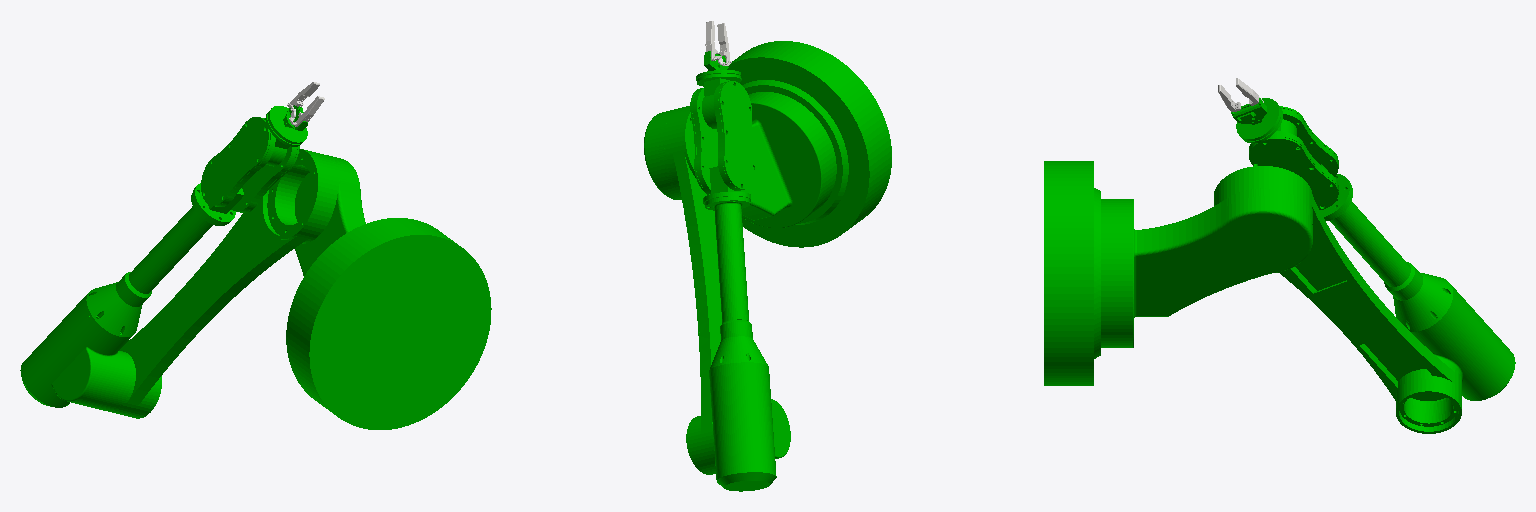
robot.urdf — Assem1:
<?xml version="1.0"?>
<robot name="Assem1">

  <!-- Materials -->
  <material name="Steel">
    <color rgba="0.000 0.753 0.000 1.0"/>
  </material>
  <material name="Generico">
    <color rgba="0.878 0.875 0.859 1.0"/>
  </material>
  <material name="material">
    <color rgba="0.961 0.961 0.965 1.0"/>
  </material>

  <link name="base_link">
    <inertial>
      <origin xyz="0.000000 0.080883 0.000000" rpy="0 0 0"/>
      <mass value="458.518628"/>
      <inertia ixx="1.383314e+01" ixy="3.228896e-17" ixz="2.339482e-14"
               iyy="2.563791e+01" iyz="1.478321e-15" izz="1.383314e+01"/>
    </inertial>
    <visual>
      <origin xyz="0.000000 0.000000 0.000000" rpy="0 0 0"/>
      <geometry>
        <mesh filename="package://Assem1_description/meshes/Assem1/base_link.dae" scale="1 1 1"/>
      </geometry>
      <material name="Steel"/>
    </visual>
    <collision>
      <origin xyz="0.000000 0.000000 0.000000" rpy="0 0 0"/>
      <geometry>
        <mesh filename="package://Assem1_description/meshes/Assem1/base_link_collision.stl" scale="0.01 0.01 0.01"/>
      </geometry>
    </collision>
  </link>

  <link name="Base0">
    <inertial>
      <origin xyz="0.049736 0.190786 -0.001303" rpy="0 0 0"/>
      <mass value="239.695814"/>
      <inertia ixx="9.415739e+00" ixy="-3.081859e+00" ixz="4.692144e-02"
               iyy="5.456557e+00" iyz="9.346255e-02" izz="1.153565e+01"/>
    </inertial>
    <visual>
      <origin xyz="0.000000 0.000000 0.000000" rpy="0 0 0"/>
      <geometry>
        <mesh filename="package://Assem1_description/meshes/Assem1/Base0.dae" scale="1 1 1"/>
      </geometry>
      <material name="Steel"/>
    </visual>
    <collision>
      <origin xyz="0.000000 0.000000 0.000000" rpy="0 0 0"/>
      <geometry>
        <mesh filename="package://Assem1_description/meshes/Assem1/Base0_collision.stl" scale="0.01 0.01 0.01"/>
      </geometry>
    </collision>
  </link>

  <link name="Arm01">
    <inertial>
      <origin xyz="0.053529 0.366854 -0.000002" rpy="0 0 0"/>
      <mass value="68.994369"/>
      <inertia ixx="1.074135e+01" ixy="-1.111681e-01" ixz="-1.230563e-06"
               iyy="4.476331e-01" iyz="3.364830e-05" izz="1.039438e+01"/>
    </inertial>
    <visual>
      <origin xyz="-0.020000 1.000000 -0.000000" rpy="0 0 0"/>
      <geometry>
        <mesh filename="package://Assem1_description/meshes/Assem1/Arm01.dae" scale="1 1 1"/>
      </geometry>
      <material name="Steel"/>
    </visual>
    <collision>
      <origin xyz="-0.020000 1.000000 -0.000000" rpy="0 0 0"/>
      <geometry>
        <mesh filename="package://Assem1_description/meshes/Assem1/Arm01_collision.stl" scale="0.01 0.01 0.01"/>
      </geometry>
    </collision>
  </link>

  <link name="Arm02">
    <inertial>
      <origin xyz="-0.002051 0.071594 0.110143" rpy="0 0 0"/>
      <mass value="122.591597"/>
      <inertia ixx="9.697336e-01" ixy="7.134262e-03" ixz="2.475546e-03"
               iyy="1.599893e+00" iyz="-1.000127e-01" izz="1.865600e+00"/>
    </inertial>
    <visual>
      <origin xyz="-0.177000 0.100000 0.120000" rpy="0 0 0"/>
      <geometry>
        <mesh filename="package://Assem1_description/meshes/Assem1/Arm02.dae" scale="1 1 1"/>
      </geometry>
      <material name="Steel"/>
    </visual>
    <collision>
      <origin xyz="-0.177000 0.100000 0.120000" rpy="0 0 0"/>
      <geometry>
        <mesh filename="package://Assem1_description/meshes/Assem1/Arm02_collision.stl" scale="0.01 0.01 0.01"/>
      </geometry>
    </collision>
  </link>

  <link name="for_arm_group">
    <inertial>
      <origin xyz="0.465627 -0.000033 -0.000000" rpy="0 0 0"/>
      <mass value="76.866253"/>
      <inertia ixx="2.134041e-01" ixy="9.151683e-04" ixz="-1.210196e-05"
               iyy="7.730913e+00" iyz="-1.254132e-06" izz="7.717249e+00"/>
    </inertial>
    <visual>
      <origin xyz="-0.367000 -0.000000 0.000000" rpy="0 0 0"/>
      <geometry>
        <mesh filename="package://Assem1_description/meshes/Assem1/for_arm_group.dae" scale="1 1 1"/>
      </geometry>
      <material name="Steel"/>
    </visual>
    <collision>
      <origin xyz="-0.367000 -0.000000 0.000000" rpy="0 0 0"/>
      <geometry>
        <mesh filename="package://Assem1_description/meshes/Assem1/for_arm_group_collision.stl" scale="0.01 0.01 0.01"/>
      </geometry>
    </collision>
  </link>

  <link name="Part02">
    <inertial>
      <origin xyz="-0.055298 0.000000 -0.000000" rpy="0 0 0"/>
      <mass value="8.277042"/>
      <inertia ixx="1.609093e-02" ixy="-6.388571e-13" ixz="-2.432409e-12"
               iyy="3.044161e-02" iyz="-6.667105e-23" izz="3.383062e-02"/>
    </inertial>
    <visual>
      <origin xyz="-0.117721 -0.000000 0.000000" rpy="0 0 0"/>
      <geometry>
        <mesh filename="package://Assem1_description/meshes/Assem1/Part02.dae" scale="1 1 1"/>
      </geometry>
      <material name="Steel"/>
    </visual>
    <collision>
      <origin xyz="-0.117721 -0.000000 0.000000" rpy="0 0 0"/>
      <geometry>
        <mesh filename="package://Assem1_description/meshes/Assem1/Part02_collision.stl" scale="0.01 0.01 0.01"/>
      </geometry>
    </collision>
  </link>

  <link name="led_base">
    <inertial>
      <origin xyz="0.014027 0.006699 0.016421" rpy="0 0 0"/>
      <mass value="0.303692"/>
      <inertia ixx="8.300206e-05" ixy="-6.874604e-06" ixz="5.194899e-06"
               iyy="1.571638e-04" iyz="6.920922e-06" izz="1.945885e-04"/>
    </inertial>
    <visual>
      <origin xyz="0.000000 0.000000 0.000000" rpy="0 0 0"/>
      <geometry>
        <mesh filename="package://Assem1_description/meshes/griper/led_base.dae" scale="1 1 1"/>
      </geometry>
      <material name="Steel"/>
    </visual>
    <collision>
      <origin xyz="0.000000 0.000000 0.000000" rpy="0 0 0"/>
      <geometry>
        <mesh filename="package://Assem1_description/meshes/griper/led_base_collision.stl" scale="0.01 0.01 0.01"/>
      </geometry>
    </collision>
  </link>

  <link name="servo_mount">
    <inertial>
      <origin xyz="-0.000000 0.002881 -0.000000" rpy="0 0 0"/>
      <mass value="0.012073"/>
      <inertia ixx="1.000000e-06" ixy="-7.046030e-14" ixz="-1.289899e-07"
               iyy="1.000000e-06" iyz="2.433932e-14" izz="1.000000e-06"/>
    </inertial>
    <visual>
      <origin xyz="-0.010000 -0.024700 0.000000" rpy="0 0 0"/>
      <geometry>
        <mesh filename="package://Assem1_description/meshes/griper/servo_mount.dae" scale="1 1 1"/>
      </geometry>
      <material name="material"/>
    </visual>
    <collision>
      <origin xyz="-0.010000 -0.024700 0.000000" rpy="0 0 0"/>
      <geometry>
        <mesh filename="package://Assem1_description/meshes/griper/servo_mount_collision.stl" scale="0.01 0.01 0.01"/>
      </geometry>
    </collision>
  </link>

  <link name="right_pivot">
    <inertial>
      <origin xyz="0.006957 0.000935 0.002918" rpy="0 0 0"/>
      <mass value="0.003905"/>
      <inertia ixx="1.000000e-06" ixy="-2.936949e-08" ixz="1.136656e-08"
               iyy="1.000000e-06" iyz="1.527936e-09" izz="1.000000e-06"/>
    </inertial>
    <visual>
      <origin xyz="0.015000 0.000000 0.002500" rpy="0 0 0"/>
      <geometry>
        <mesh filename="package://Assem1_description/meshes/griper/right_pivot.dae" scale="1 1 1"/>
      </geometry>
      <material name="Generico"/>
    </visual>
    <collision>
      <origin xyz="0.015000 0.000000 0.002500" rpy="0 0 0"/>
      <geometry>
        <mesh filename="package://Assem1_description/meshes/griper/right_pivot_collision.stl" scale="0.01 0.01 0.01"/>
      </geometry>
    </collision>
  </link>

  <link name="left_pivot">
    <inertial>
      <origin xyz="0.006957 0.000935 -0.001082" rpy="0 0 0"/>
      <mass value="0.003905"/>
      <inertia ixx="1.000000e-06" ixy="-2.936949e-08" ixz="1.136656e-08"
               iyy="1.000000e-06" iyz="1.527936e-09" izz="1.000000e-06"/>
    </inertial>
    <visual>
      <origin xyz="0.015000 -0.000000 -0.001500" rpy="0 0 0"/>
      <geometry>
        <mesh filename="package://Assem1_description/meshes/griper/left_pivot.dae" scale="1 1 1"/>
      </geometry>
      <material name="Generico"/>
    </visual>
    <collision>
      <origin xyz="0.015000 -0.000000 -0.001500" rpy="0 0 0"/>
      <geometry>
        <mesh filename="package://Assem1_description/meshes/griper/left_pivot_collision.stl" scale="0.01 0.01 0.01"/>
      </geometry>
    </collision>
  </link>

  <link name="acc_right_gripper">
    <inertial>
      <origin xyz="-0.004275 0.067508 -0.017078" rpy="0 0 0"/>
      <mass value="0.053135"/>
      <inertia ixx="7.164639e-05" ixy="3.499711e-06" ixz="-2.373468e-07"
               iyy="5.689930e-06" iyz="4.330788e-06" izz="7.017811e-05"/>
    </inertial>
    <visual>
      <origin xyz="0.004000 0.046200 -0.031700" rpy="0 0 0"/>
      <geometry>
        <mesh filename="package://Assem1_description/meshes/griper/acc_right_gripper.dae" scale="1 1 1"/>
      </geometry>
      <material name="Generico"/>
    </visual>
    <collision>
      <origin xyz="0.004000 0.046200 -0.031700" rpy="0 0 0"/>
      <geometry>
        <mesh filename="package://Assem1_description/meshes/griper/acc_right_gripper_collision.stl" scale="0.01 0.01 0.01"/>
      </geometry>
    </collision>
  </link>

  <link name="acc_left_gripper">
    <inertial>
      <origin xyz="-0.004275 0.067508 0.013078" rpy="0 0 0"/>
      <mass value="0.053135"/>
      <inertia ixx="7.164639e-05" ixy="3.499711e-06" ixz="2.373468e-07"
               iyy="5.689930e-06" iyz="-4.330788e-06" izz="7.017811e-05"/>
    </inertial>
    <visual>
      <origin xyz="0.004000 0.046200 0.027700" rpy="0 0 0"/>
      <geometry>
        <mesh filename="package://Assem1_description/meshes/griper/acc_left_gripper.dae" scale="1 1 1"/>
      </geometry>
      <material name="Generico"/>
    </visual>
    <collision>
      <origin xyz="0.004000 0.046200 0.027700" rpy="0 0 0"/>
      <geometry>
        <mesh filename="package://Assem1_description/meshes/griper/acc_left_gripper_collision.stl" scale="0.01 0.01 0.01"/>
      </geometry>
    </collision>
  </link>

  <joint name="Revolute_1" type="continuous">
    <parent link="base_link"/>
    <child link="Base0"/>
    <origin xyz="0.000000 0.170000 0.000000" rpy="-0.000000 -1.134464 -0.000000"/>
    <axis xyz="-0.000000 1.000000 -0.000000"/>
    <limit effort="100.0" velocity="1.00"/>
  </joint>

  <joint name="Revolute_2" type="continuous">
    <parent link="Base0"/>
    <child link="Arm01"/>
    <origin xyz="0.200000 0.490000 0.030000" rpy="1.047198 -1.570796 0.000000"/>
    <axis xyz="1.000000 0.000000 0.000000"/>
    <limit effort="100.0" velocity="1.00"/>
  </joint>

  <joint name="Revolute3" type="continuous">
    <parent link="Arm01"/>
    <child link="Arm02"/>
    <origin xyz="0.100000 1.000000 -0.000000" rpy="-1.570796 -0.000000 -1.570796"/>
    <axis xyz="-0.000000 -0.000000 1.000000"/>
    <limit effort="100.0" velocity="1.00"/>
  </joint>

  <joint name="Revolute4" type="continuous">
    <parent link="Arm02"/>
    <child link="for_arm_group"/>
    <origin xyz="0.189000 0.100000 0.120000" rpy="-0.000000 0.000000 -0.000000"/>
    <axis xyz="-1.000000 0.000000 0.000000"/>
    <limit effort="100.0" velocity="1.00"/>
  </joint>

  <joint name="Revolute6" type="revolute">
    <parent link="for_arm_group"/>
    <child link="Part02"/>
    <origin xyz="0.899000 -0.000000 -0.000000" rpy="-3.141593 -0.000000 3.141593"/>
    <axis xyz="-0.000000 0.000000 1.000000"/>
    <limit lower="-1.745329" upper="1.745329" effort="100.0" velocity="1.00"/>
  </joint>

  <joint name="griper_joint" type="fixed">
    <parent link="Part02"/>
    <child link="led_base"/>
    <origin xyz="-0.152521 0.007500 0.024300" rpy="3.141593 -0.000000 -1.570796"/>
  </joint>

  <joint name="servo_joint" type="revolute">
    <parent link="led_base"/>
    <child link="servo_mount"/>
    <origin xyz="0.007500 0.010100 0.032200" rpy="1.570796 -0.000000 0.070370"/>
    <axis xyz="0.000000 1.000000 0.000000"/>
    <limit lower="-1.012291" upper="0.000000" effort="100.0" velocity="1.00"/>
  </joint>

  <joint name="left_pivot_joint2" type="continuous">
    <parent link="servo_mount"/>
    <child link="right_pivot"/>
    <origin xyz="0.010607 0.013300 0.010607" rpy="1.570796 0.263624 0.000000"/>
    <axis xyz="-0.000000 -0.000000 1.000000"/>
    <limit effort="100.0" velocity="1.00"/>
  </joint>

  <joint name="right_pivot_joint2" type="continuous">
    <parent link="servo_mount"/>
    <child link="left_pivot"/>
    <origin xyz="-0.010607 0.009300 -0.010607" rpy="-1.570796 -0.263625 -3.141593"/>
    <axis xyz="0.000000 0.000000 1.000000"/>
    <limit effort="100.0" velocity="1.00"/>
  </joint>

  <joint name="left_pivot_joint1" type="continuous">
    <parent link="right_pivot"/>
    <child link="acc_right_gripper"/>
    <origin xyz="0.030000 0.000000 -0.000000" rpy="3.141593 0.000000 0.333994"/>
    <axis xyz="-0.000000 0.000000 -1.000000"/>
    <limit effort="100.0" velocity="1.00"/>
  </joint>

  <joint name="right_pivot_joint1" type="continuous">
    <parent link="left_pivot"/>
    <child link="acc_left_gripper"/>
    <origin xyz="0.030000 -0.000000 0.000000" rpy="0.000000 -0.000000 0.333995"/>
    <axis xyz="0.000000 0.000000 1.000000"/>
    <limit effort="100.0" velocity="1.00"/>
  </joint>

  <!-- ROS 2 control: generated generic system -->
  <ros2_control name="Assem1_system" type="system">
    <hardware>
      <plugin>mock_components/GenericSystem</plugin>
      <param name="cmd_topic">sim/Assem1_system/cmd</param>
      <param name="state_topic">sim/Assem1_system/state</param>
    </hardware>

    <joint name="Revolute3">
      <command_interface name="position"/>
      <command_interface name="velocity"/>
      <state_interface name="position">
        <param name="initial_value">0.0</param>
      </state_interface>
      <state_interface name="velocity"/>
      <state_interface name="effort"/>
    </joint>
    <joint name="Revolute4">
      <command_interface name="position"/>
      <command_interface name="velocity"/>
      <state_interface name="position">
        <param name="initial_value">0.0</param>
      </state_interface>
      <state_interface name="velocity"/>
      <state_interface name="effort"/>
    </joint>
    <joint name="Revolute6">
      <command_interface name="position"/>
      <command_interface name="velocity"/>
      <state_interface name="position">
        <param name="initial_value">0.0</param>
      </state_interface>
      <state_interface name="velocity"/>
      <state_interface name="effort"/>
    </joint>
    <joint name="Revolute_1">
      <command_interface name="position"/>
      <command_interface name="velocity"/>
      <state_interface name="position">
        <param name="initial_value">0.0</param>
      </state_interface>
      <state_interface name="velocity"/>
      <state_interface name="effort"/>
    </joint>
    <joint name="Revolute_2">
      <command_interface name="position"/>
      <command_interface name="velocity"/>
      <state_interface name="position">
        <param name="initial_value">0.0</param>
      </state_interface>
      <state_interface name="velocity"/>
      <state_interface name="effort"/>
    </joint>
    <joint name="left_pivot_joint1">
      <state_interface name="position">
        <param name="initial_value">0.0</param>
      </state_interface>
      <state_interface name="velocity"/>
      <state_interface name="effort"/>
    </joint>
    <joint name="left_pivot_joint2">
      <state_interface name="position">
        <param name="initial_value">0.0</param>
      </state_interface>
      <state_interface name="velocity"/>
      <state_interface name="effort"/>
    </joint>
    <joint name="right_pivot_joint1">
      <state_interface name="position">
        <param name="initial_value">0.0</param>
      </state_interface>
      <state_interface name="velocity"/>
      <state_interface name="effort"/>
    </joint>
    <joint name="right_pivot_joint2">
      <state_interface name="position">
        <param name="initial_value">0.0</param>
      </state_interface>
      <state_interface name="velocity"/>
      <state_interface name="effort"/>
    </joint>
    <joint name="servo_joint">
      <command_interface name="position"/>
      <command_interface name="velocity"/>
      <state_interface name="position">
        <param name="initial_value">0.0</param>
      </state_interface>
      <state_interface name="velocity"/>
      <state_interface name="effort"/>
    </joint>
  </ros2_control>

</robot>

--- Facts derived from the render (not from the file) ---
Views: 3 orthographic renders of the robot side by side, from view 1: azimuth 30°, elevation 25°; view 2: azimuth 150°, elevation 25°; view 3: azimuth 270°, elevation 25°.
Model Assem1 with 12 links and 11 joints (2 revolute, 8 continuous, 1 fixed), rooted at base_link, posed all joints at 0.
Links seen in each view (by area): view 1: base_link, Arm01, for_arm_group, Arm02, Base0, Part02; view 2: base_link, for_arm_group, Base0, Arm01, Arm02, Part02; view 3: Base0, Arm01, base_link, for_arm_group, Arm02, Part02, led_base.
Link boxes in pixels (box(x1,y1,x2,y2)): base_link: box(286, 218, 491, 429); Arm01: box(111, 149, 346, 418); for_arm_group: box(85, 117, 299, 338); Arm02: box(20, 296, 132, 411); Base0: box(295, 155, 365, 275); Part02: box(265, 106, 307, 166); base_link: box(727, 41, 891, 247); for_arm_group: box(690, 81, 768, 372); Base0: box(644, 92, 836, 227); Arm01: box(657, 106, 721, 474); Arm02: box(709, 365, 790, 491); Part02: box(696, 70, 741, 128); Base0: box(1101, 188, 1312, 347); Arm01: box(1214, 166, 1461, 433); base_link: box(1044, 161, 1100, 385); for_arm_group: box(1249, 106, 1454, 333); Arm02: box(1411, 287, 1515, 400); Part02: box(1236, 98, 1296, 143); led_base: box(1231, 98, 1266, 124).
Size in the robot's own frame: 0.9844 by 1.42 by 1.35 metres.
Meshes: 12 distinct files referenced, 12 mesh visuals loaded (12 Collada DAE).
